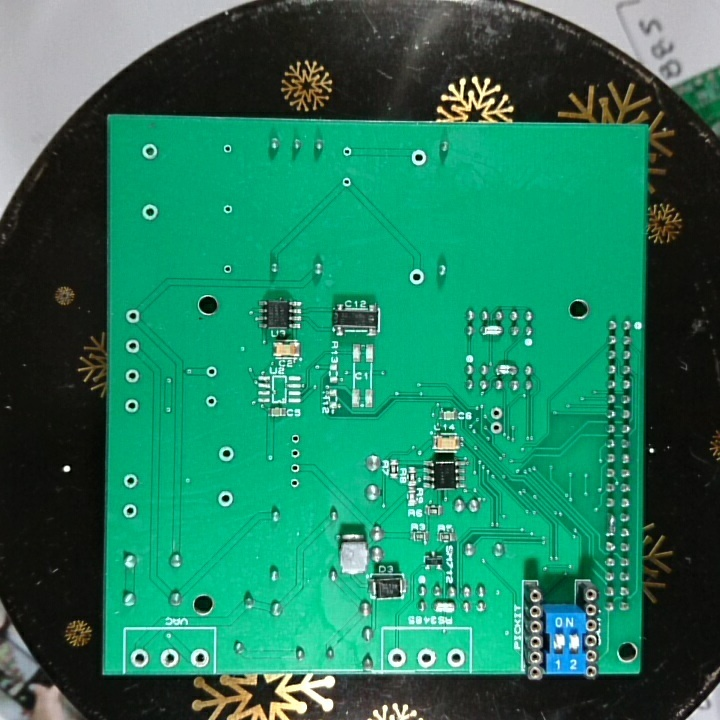F: (386, 646, 410, 671), (186, 646, 212, 669), (128, 647, 151, 670), (158, 646, 181, 669), (140, 201, 162, 225), (405, 266, 427, 290), (445, 647, 469, 669), (138, 141, 161, 163), (416, 647, 438, 669), (217, 442, 237, 465), (123, 306, 143, 328), (119, 500, 140, 520), (122, 337, 141, 359), (408, 148, 428, 167), (217, 487, 235, 508), (123, 396, 141, 416), (122, 472, 140, 492), (123, 366, 141, 385), (202, 392, 219, 409), (288, 430, 305, 447), (488, 405, 505, 422), (203, 364, 220, 380), (288, 472, 302, 491), (219, 203, 236, 218), (339, 144, 355, 159), (219, 141, 234, 157), (219, 261, 235, 276), (339, 172, 352, 190), (488, 420, 503, 435), (289, 460, 302, 475), (289, 446, 302, 460)
P: (494, 360, 520, 378), (431, 598, 458, 615), (605, 512, 618, 539), (479, 324, 503, 338)
